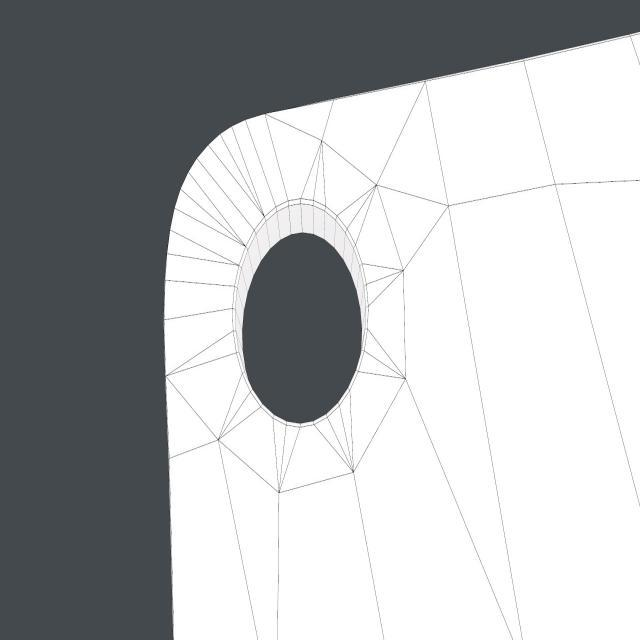cleaver: (165, 31, 640, 640)
